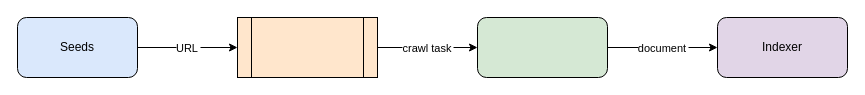
This 865x95 diagram has some shape labels left out. Each missing label, with the centre of its shape:
"Fetchers" belongs at (x=542, y=47).
"URL Frontier" belongs at (x=307, y=47).
